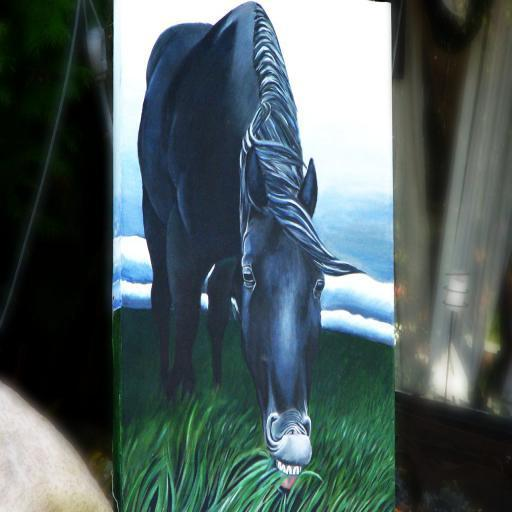horse: (135, 0, 368, 492)
